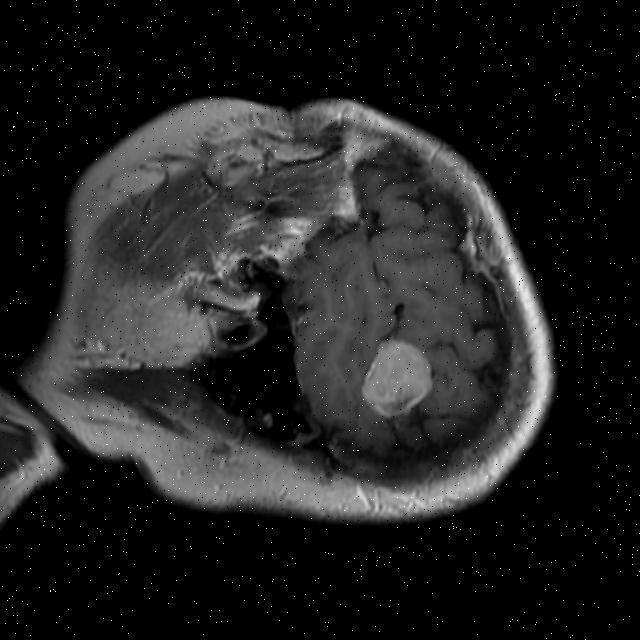Meningioma: (356, 333, 436, 422)
